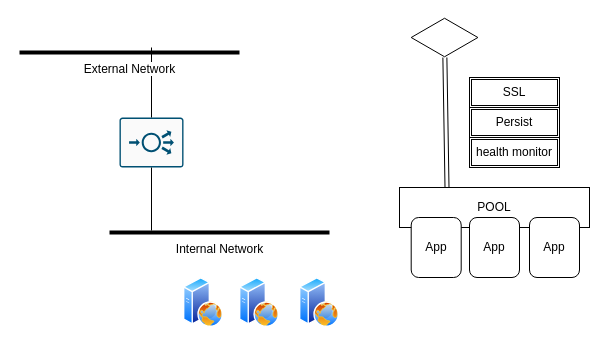
Image size: 607x345. Some labels were removed from this diagram. The box of each missing label's shape, as (x1, y1, x2, y2) in pixels:
F5 BIGIP-VE: (118, 116, 184, 168)
VIP: (410, 16, 478, 58)
